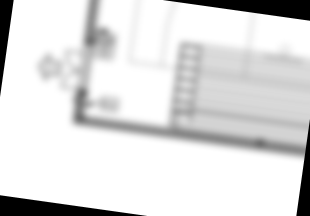double door: (59, 49, 87, 92)
wall: (80, 114, 306, 154), (88, 0, 103, 41)
